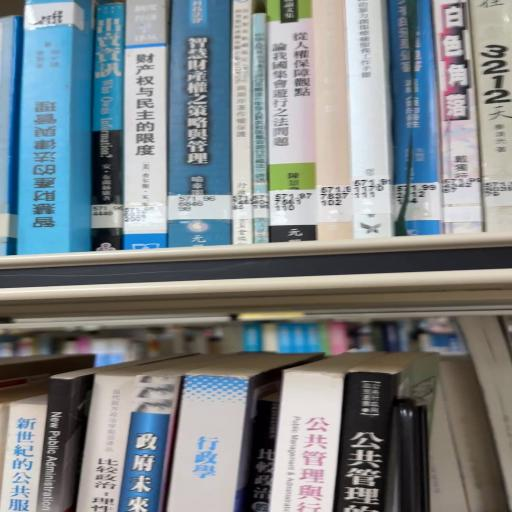reverse: (19, 1, 106, 255)
